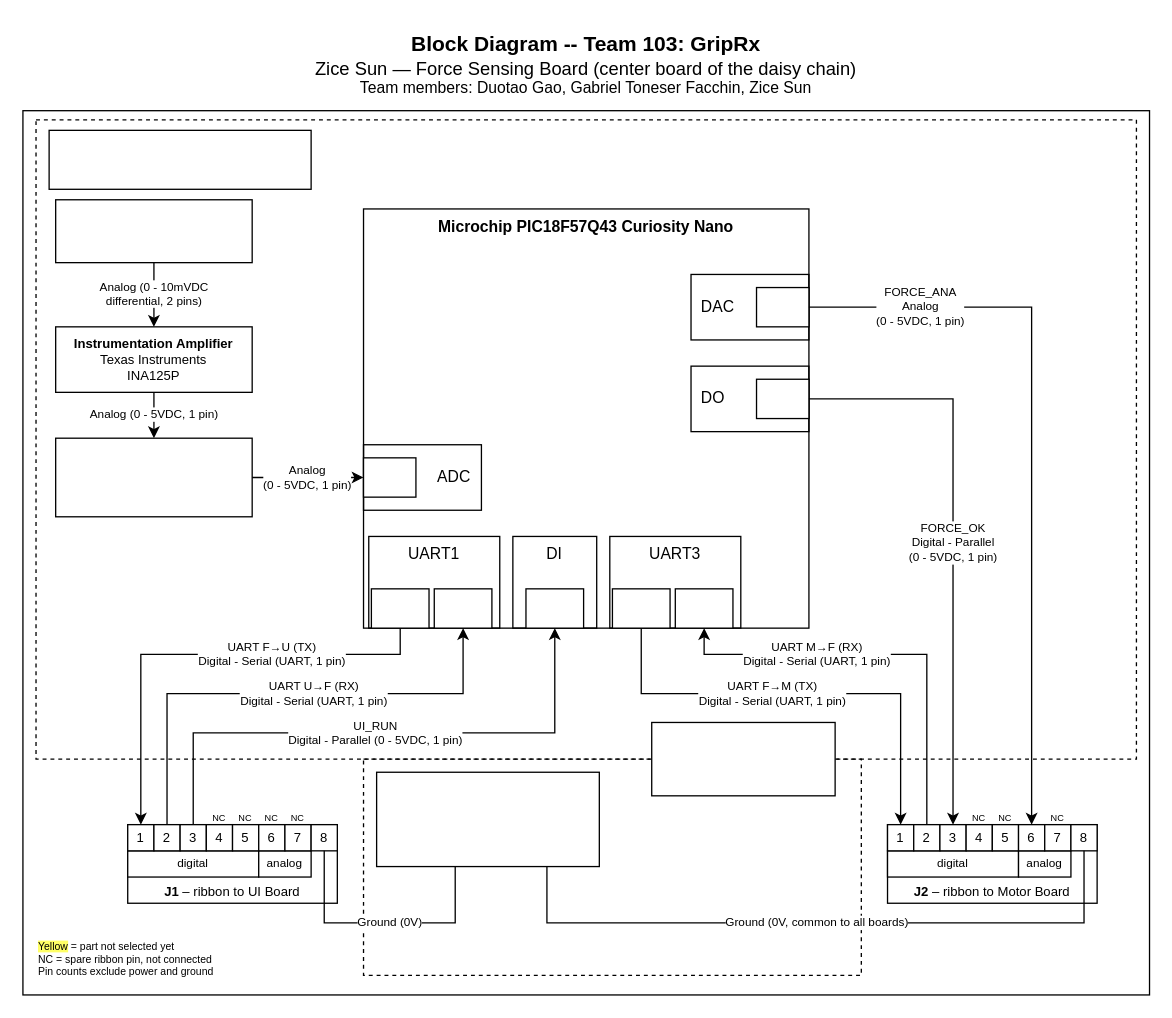
The diagram is 1172 pixels wide and 1018 high, and some of its shapes have lost their labels. The centre of each missing label's shape, as x and y in pixels:
"5V Linear Regulator STMicroelectronics L7805CV" belongs at point 742,758.
"Load Cell (sensor) Manufacturer Part #" belongs at point 153,230.
"Op Amp (Active Low-Pass Filter) Microchip MCP6004" belongs at point 153,477.
"Power (+5V DC) Regulated, 1 A max" belongs at point 179,159.
"Power (+9V DC) Unregulated, 1 A max 9V Wall Adapter Manufacturer Part #" belongs at point 487,819.
"RA0" belongs at point 389,477.
"RA2" belongs at point 782,306.
"RD0" belongs at point 554,608.
"RD1" belongs at point 782,398.
"RX RA4" belongs at point 703,608.
"RX RC3" belongs at point 462,608.
"TX RA3" belongs at point 640,608.
"TX RC2" belongs at point 399,608.
